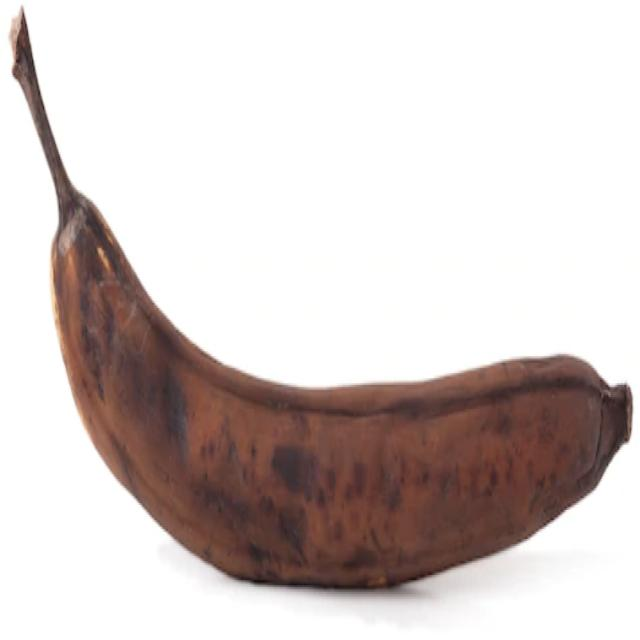rotten-banana: (7, 3, 633, 590)
